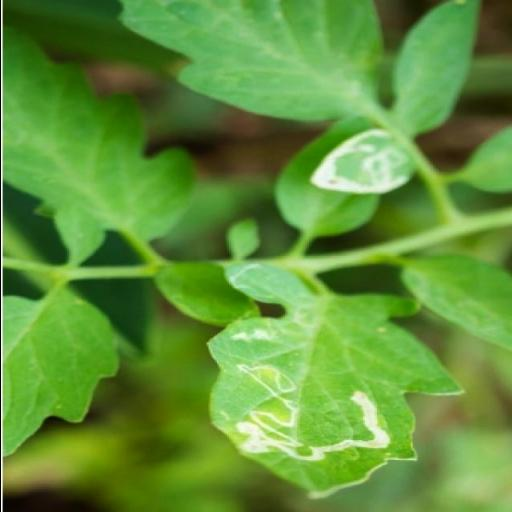Leaf Miner: (202, 262, 464, 498), (304, 130, 420, 196)
